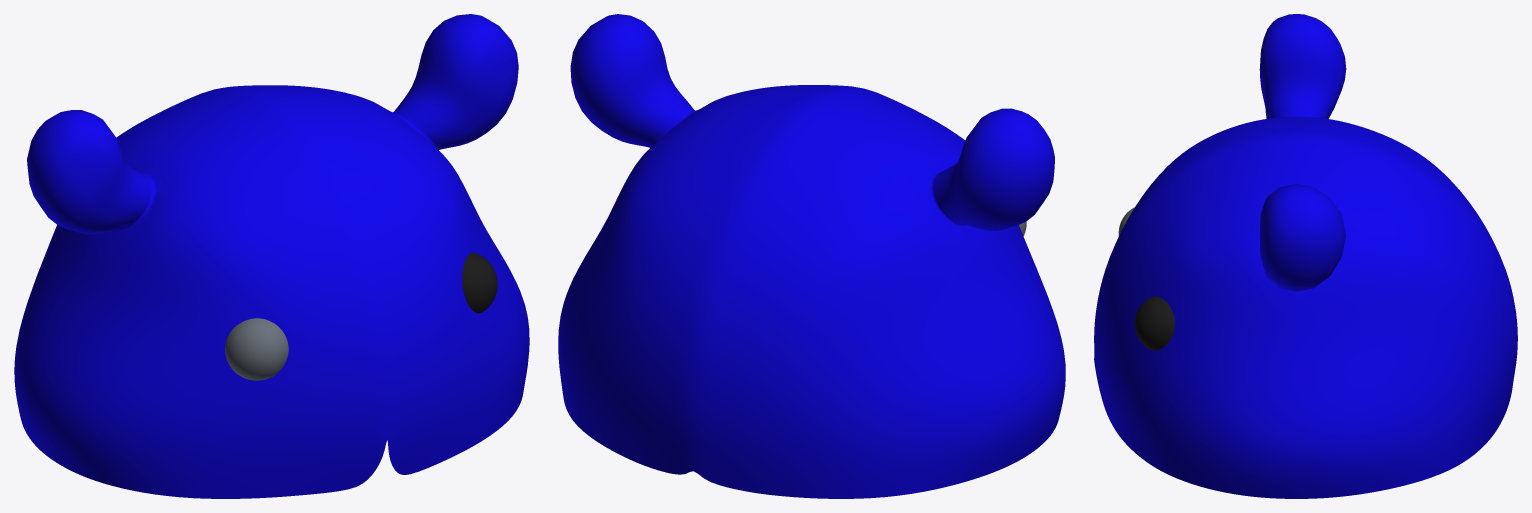
The model's file is zone1-rhino-blue.gltf.
The picture shows the model from 3 angles, left to right: view 1: azimuth 30°, elevation 25°; view 2: azimuth 150°, elevation 25°; view 3: azimuth 270°, elevation 25°; orthographic projection. The views are drawn at different scales.
Visible parts, largest first — view 1: Tete-Oreilles; view 2: Tete-Oreilles; view 3: Tete-Oreilles.
Boxes of the visible parts, bbox=[...] form: Tete-Oreilles: bbox=[14, 14, 529, 498]; Tete-Oreilles: bbox=[558, 14, 1065, 498]; Tete-Oreilles: bbox=[1094, 14, 1517, 498].
Bounding box in the file's own units: 2.99 × 2.02 × 2.58.
